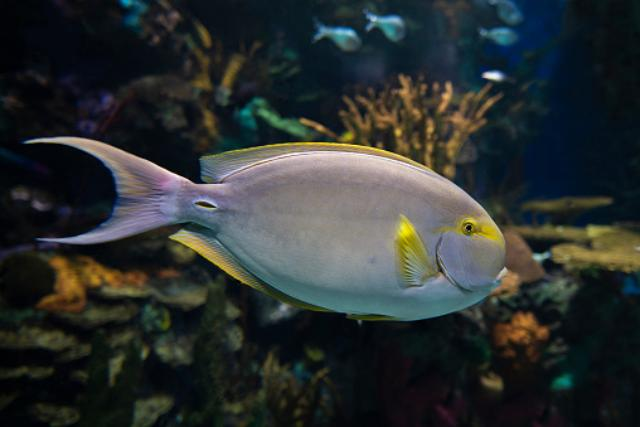Mulut: (462, 256, 534, 322)
Sirip Anal: (158, 206, 334, 320)
Sirip Dada: (372, 200, 444, 298)
Sirip Ekor: (13, 124, 188, 268)
Sirip Perut: (334, 300, 406, 338)
Sirip Punggung: (189, 136, 439, 196)
